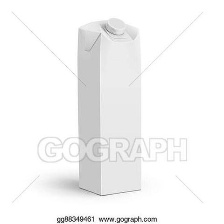carton: (71, 14, 148, 199)
